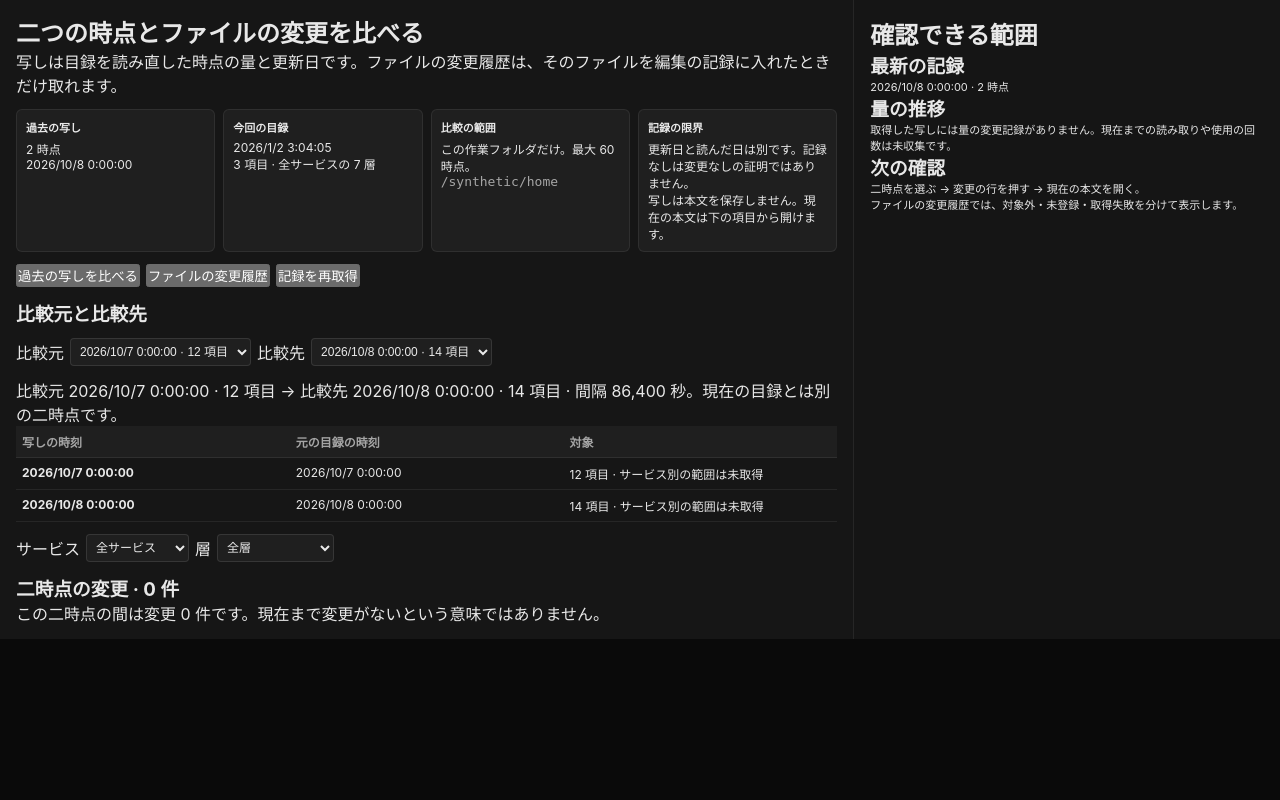
v04 history › retains the original subject and adds Japanese line changes with a readable diff
What coordinates should you click on to do the following:
click the button "ファイルの変更履歴"
I would click on:
 (208, 276)
Its box is [146,264,270,287].
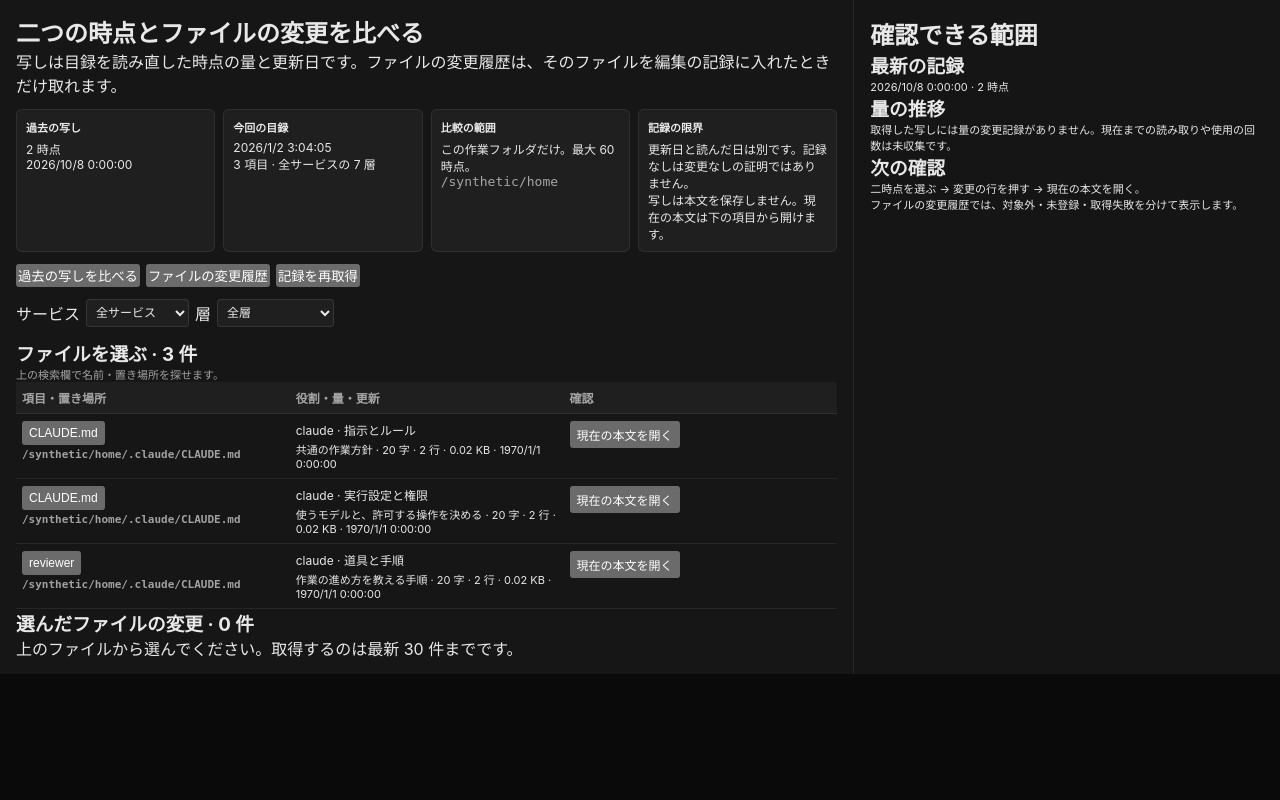
Expected: the button "CLAUDE.md" in the row of "指示とルール" is shown
What coordinates should you click on to do the following:
click the button "CLAUDE.md" in the row of "指示とルール"
I would click on:
 (63, 433)
Its box is [22,421,105,445].
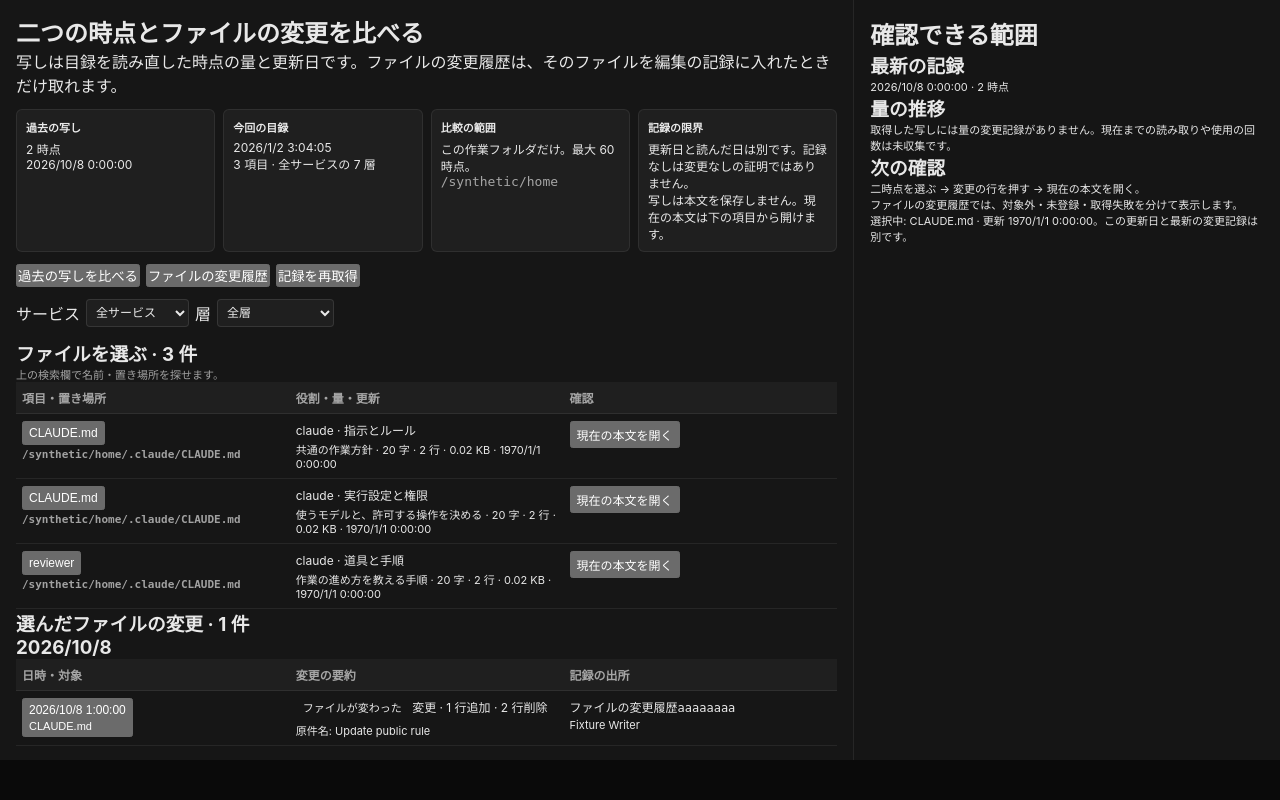
Expected: the text "原件名: Update public rule" is shown, [296,724,430,738]
Expected: the text "1 行追加 · 2 行削除" is shown, [412,700,548,715]
What coordinates should you click on to do the following:
click the button "2026/10/8 1:00:00 CLAUDE.md"
I would click on:
 (77, 718)
Its box is [22,698,133,737].
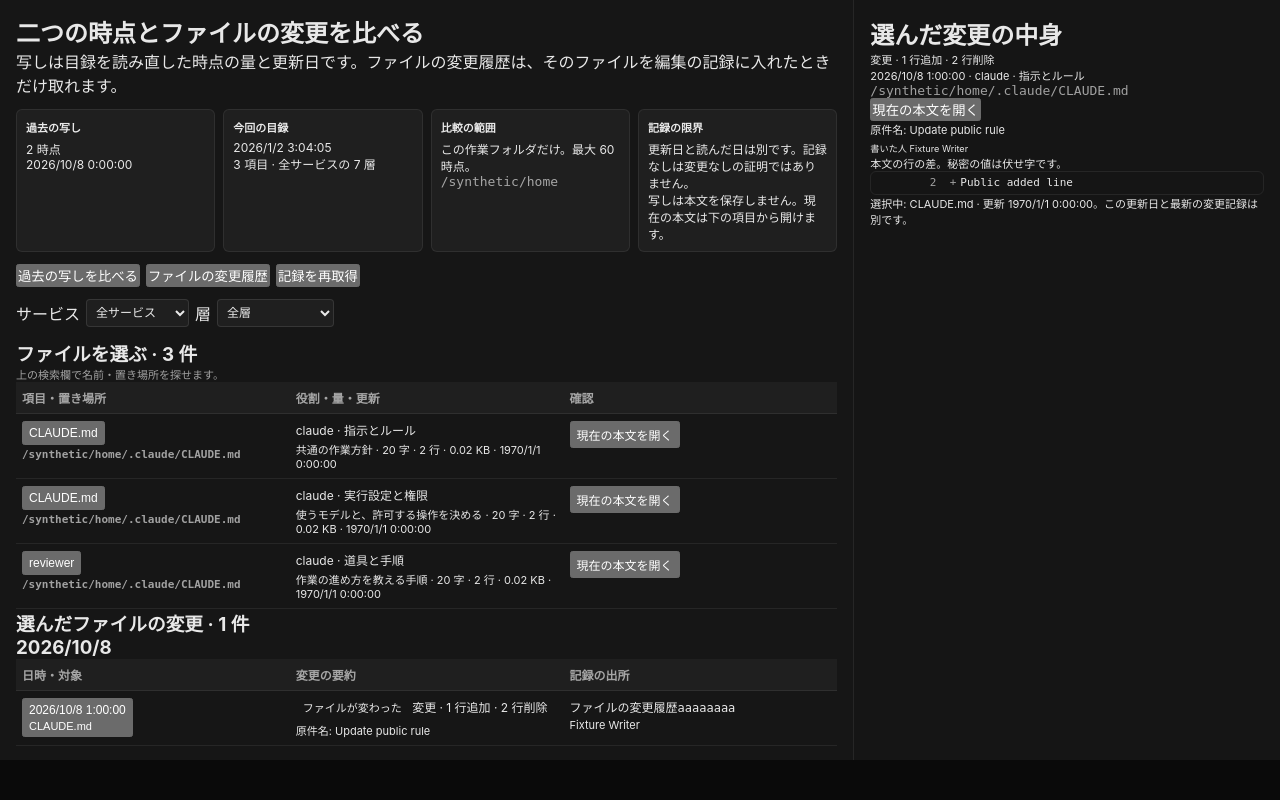
Expected: the text "2" is shown, [930,176,936,189]
Expected: the text "Public added line" is shown, [960,176,1073,189]
